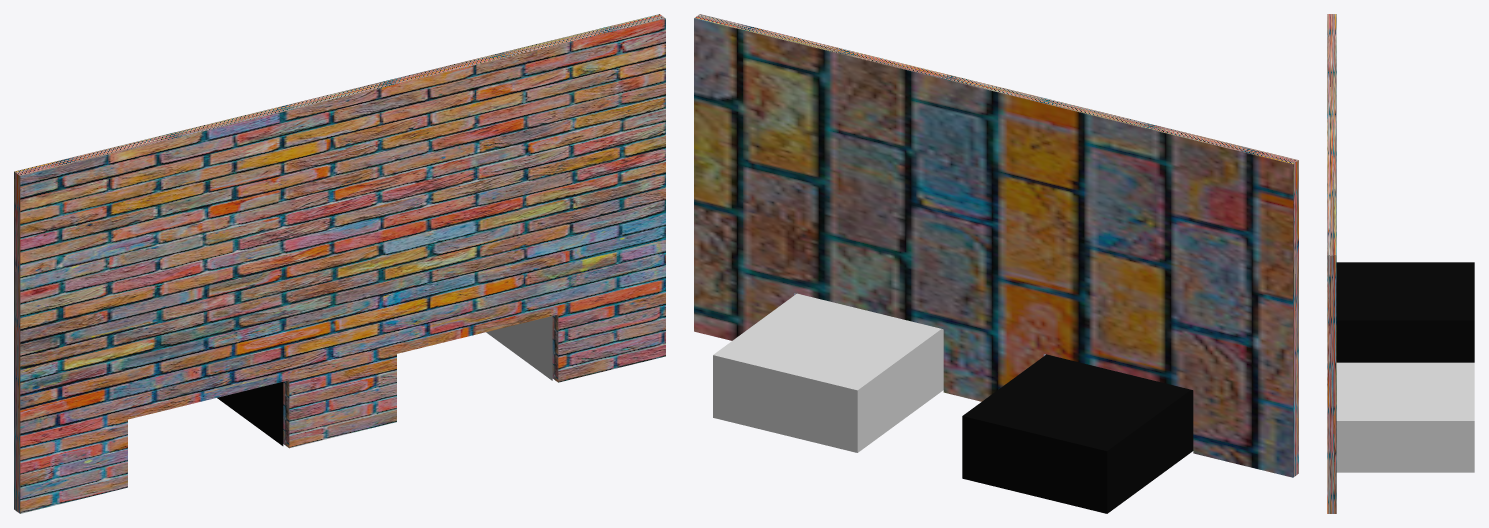
Rendered from frontWall.fbx.
3 views of the same model, side by side, from view 1: azimuth 30°, elevation 25°; view 2: azimuth 150°, elevation 25°; view 3: azimuth 270°, elevation 25° (orthographic). The views are drawn at different scales.
Parts seen in each view (by area): view 1: Cube.002, Cube, Cube.001; view 2: Cube.002, Cube, Cube.001; view 3: Cube.001, Cube, Cube.002.
Boxes of the visible parts, left/top/right/bottom form: Cube.002: left=14, top=14, right=665, bottom=513; Cube: left=217, top=382, right=283, bottom=445; Cube.001: left=486, top=316, right=552, bottom=380; Cube.002: left=694, top=14, right=1298, bottom=477; Cube: left=962, top=354, right=1193, bottom=513; Cube.001: left=713, top=293, right=943, bottom=452; Cube.001: left=1336, top=362, right=1474, bottom=472; Cube: left=1336, top=262, right=1474, bottom=362; Cube.002: left=1327, top=14, right=1336, bottom=513.
Bounding box in the file's own units: 600 × 300 × 155.
